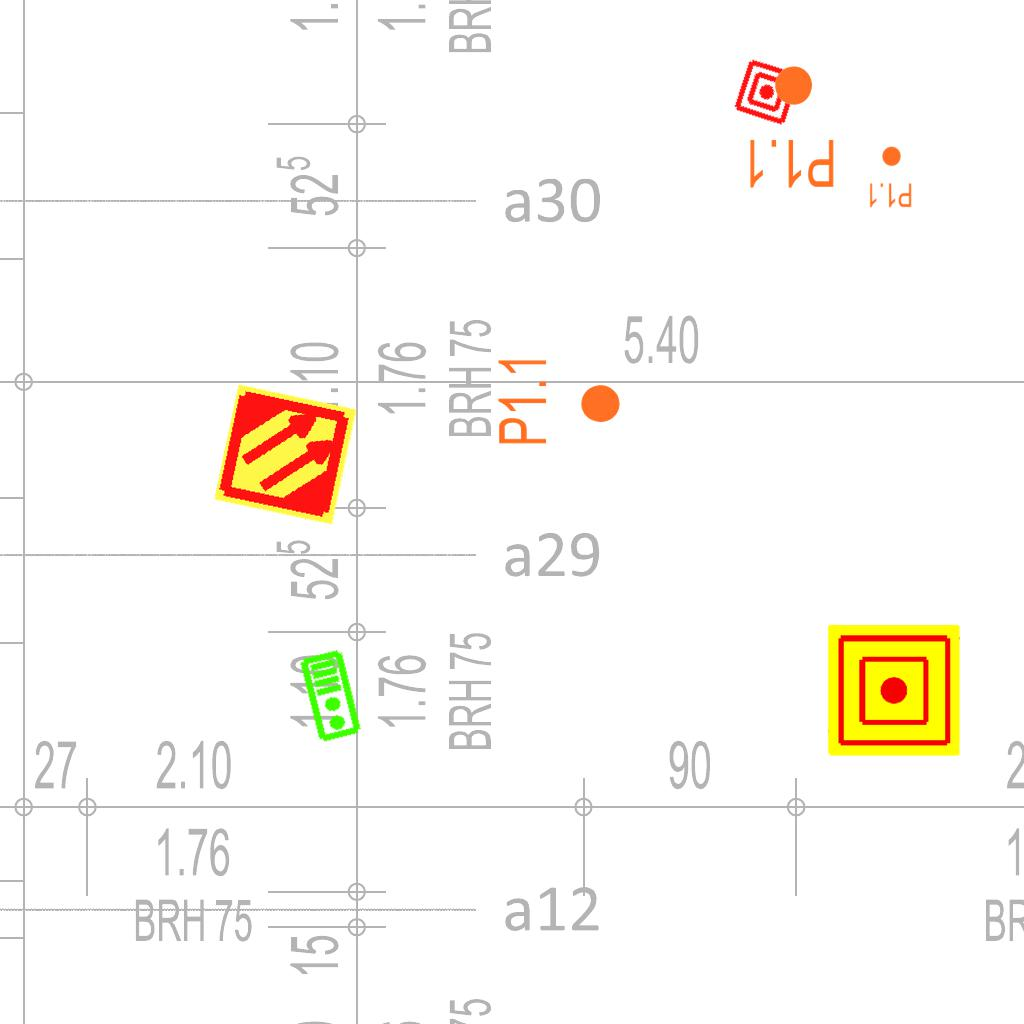ASR_Ansaugrauchmelder: (211, 380, 360, 529)
Downlight_LED_Einbauleuchten_Flur: (495, 354, 623, 447), (744, 63, 837, 191), (867, 145, 913, 209)
Gegensprechanlage_mit_Video: (298, 647, 365, 745)
NAM-Nichtautomatischer_Melder: (828, 624, 960, 756), (731, 56, 803, 128)
